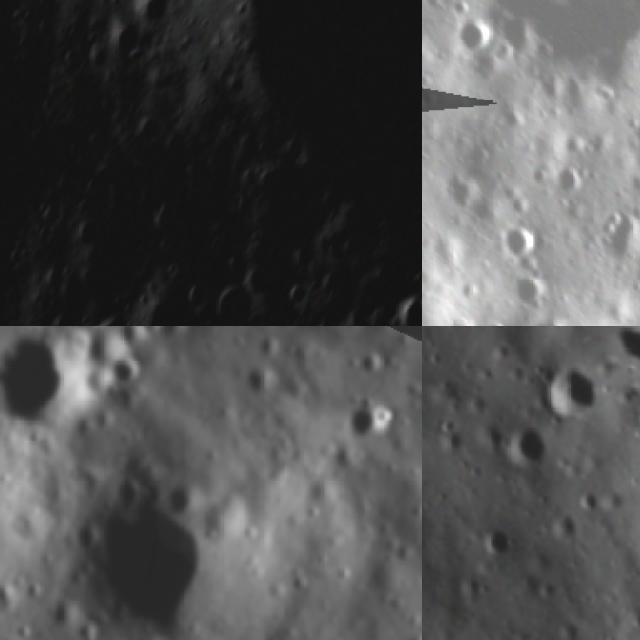crater: (49, 460, 244, 640), (446, 0, 640, 155), (0, 326, 106, 458), (572, 188, 640, 282), (531, 356, 609, 434), (486, 205, 555, 274), (494, 416, 564, 484), (439, 4, 505, 70), (434, 160, 498, 227), (496, 258, 562, 321), (332, 393, 391, 449), (467, 515, 521, 569), (99, 345, 153, 396), (426, 418, 474, 468), (470, 420, 516, 466), (208, 287, 257, 326), (108, 326, 159, 358), (54, 326, 117, 345), (521, 306, 578, 326), (388, 296, 422, 326), (177, 288, 206, 314), (83, 312, 123, 326)
